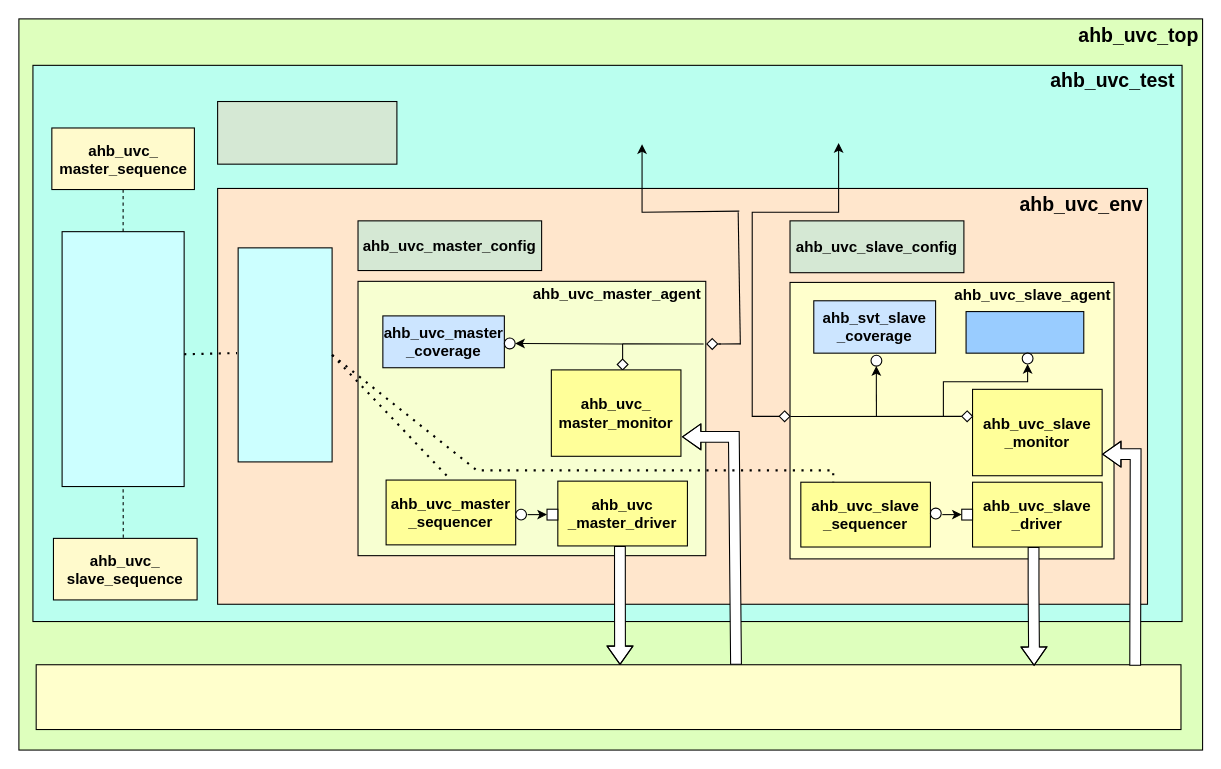
The diagram is 1221 pixels wide and 769 high, and some of its shapes have lost their labels. Here are the shapes that lost their labels. From the top down, the centre of each, then its label:
point 307,132: ahb_ uvc _system_config
point 1024,331: ahb_uvc_memory
point 122,359: ahb_uvc_virtual _sequence
point 284,354: ahb_uvc _virtual _sequencer
point 608,697: AHB_UVC_INTERFACE
